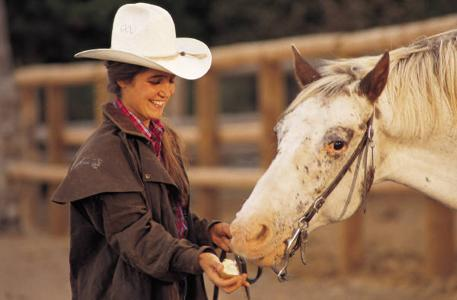person: (55, 4, 251, 300)
